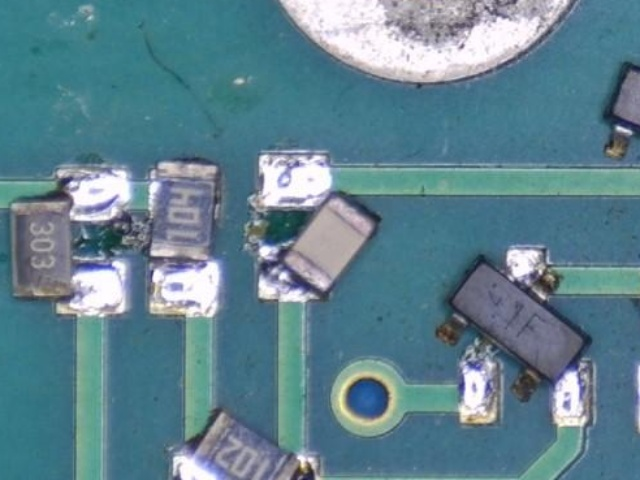pcb_defect: (433, 244, 592, 427), (252, 151, 380, 301), (8, 167, 128, 315), (148, 160, 221, 317), (170, 407, 322, 480), (604, 55, 640, 222), (637, 362, 640, 480)
